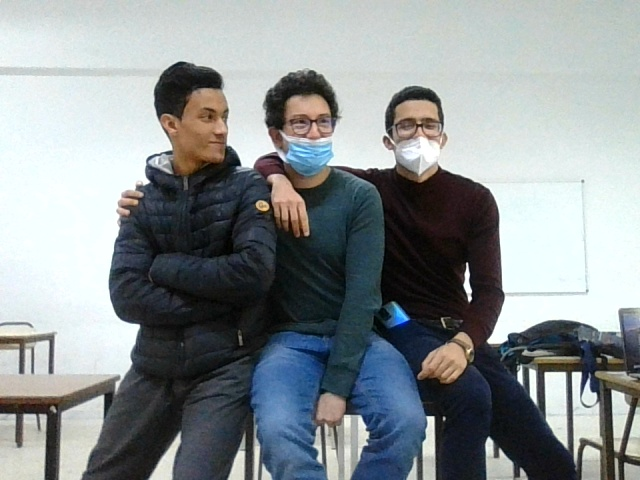mask_weared_incorrect: (373, 77, 456, 191), (268, 67, 340, 178)
without_mask: (146, 55, 248, 178)
